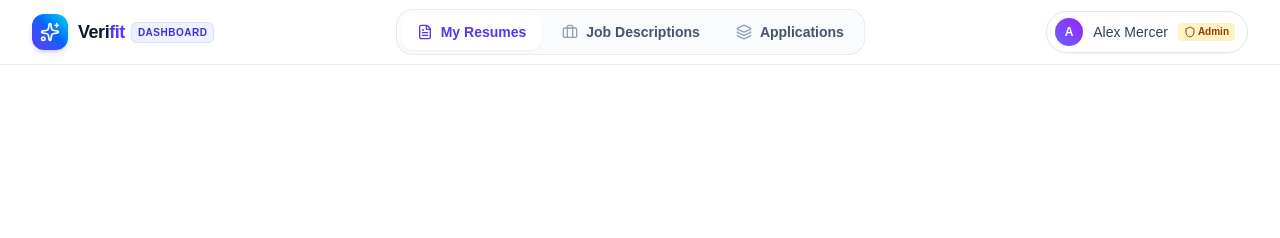
Test: DashboardHeader Component › toggles user dropdown menu with settings and signout without external links
Expected: the text "Alex Mercer" is shown, x1=1093 y1=22 x2=1168 y2=42
Expected: the text "Admin" is shown, x1=1178 y1=23 x2=1235 y2=41
Open dropdown
Click the button with test id "dashboard-user-menu": (1147, 32) x1=1046 y1=11 x2=1248 y2=53
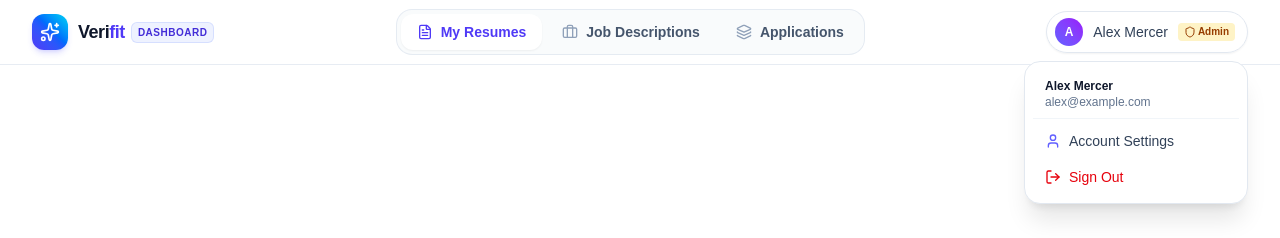
Result: the element with test id "dashboard-user-dropdown" is shown at x1=1024 y1=61 x2=1248 y2=204
Result: the button with test id "dashboard-dropdown-signout" is shown at x1=1033 y1=159 x2=1239 y2=195
